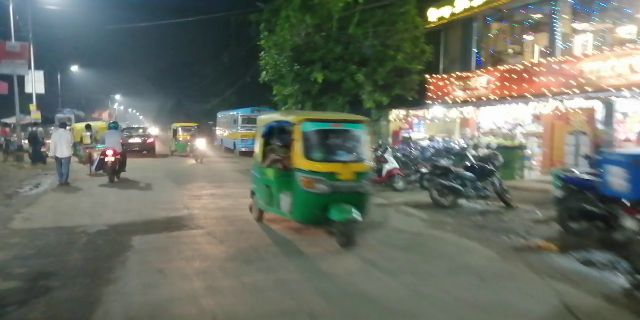Autorickshaw: (257, 114, 382, 246)
Motorbike: (423, 155, 516, 211), (94, 116, 128, 185), (188, 119, 211, 164)
